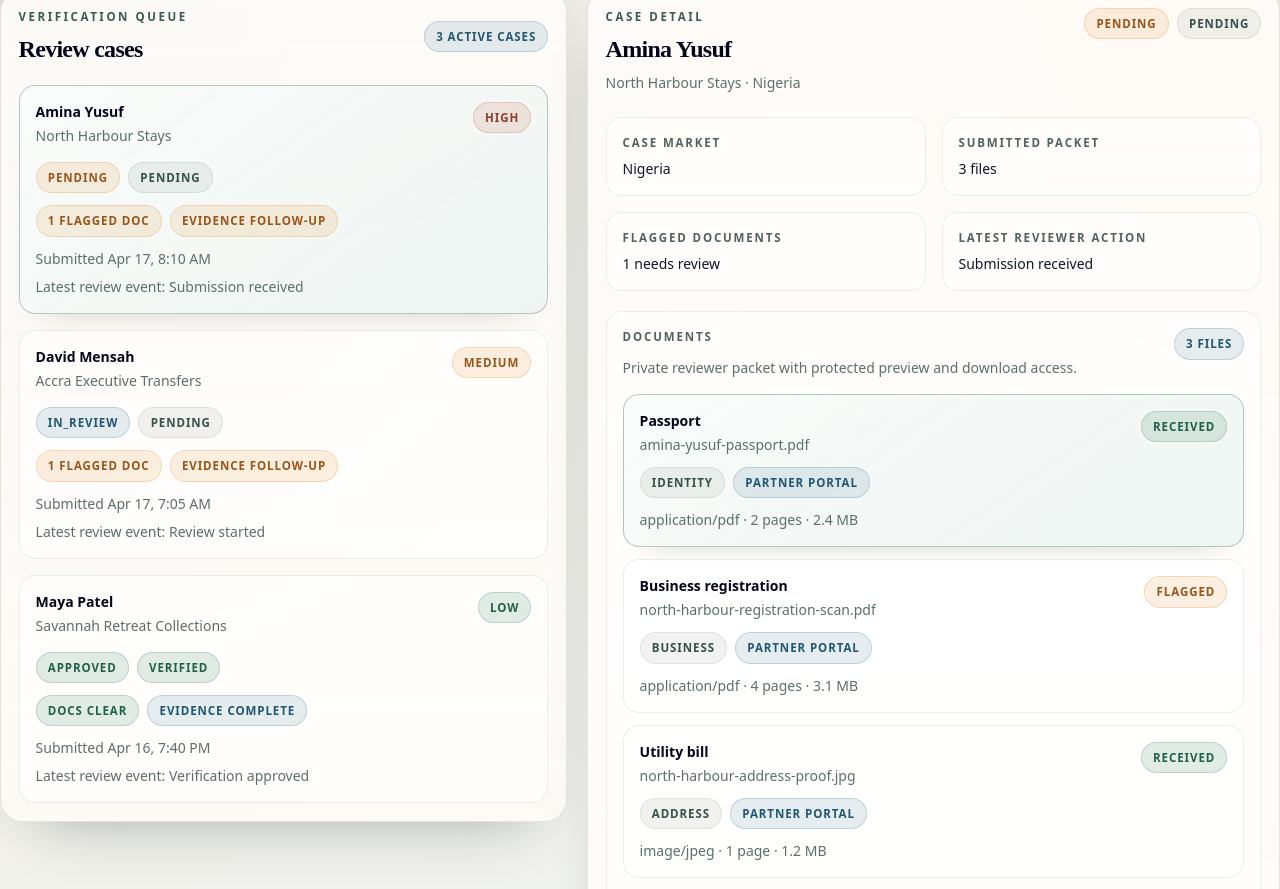
Test: VerificationReviewWorkspace › shows a backend-shaped submitted document packet with preview metadata
This screenshot has width=1280, height=889.
expect the text "amina-yusuf-passport.pdf" is shown: met, box [640,435,809,455]
What coordinates should you click on to do the following:
click the button "Business registration"
I would click on:
 (714, 586)
Its box is [623,559,1244,712].
(page scrolled)
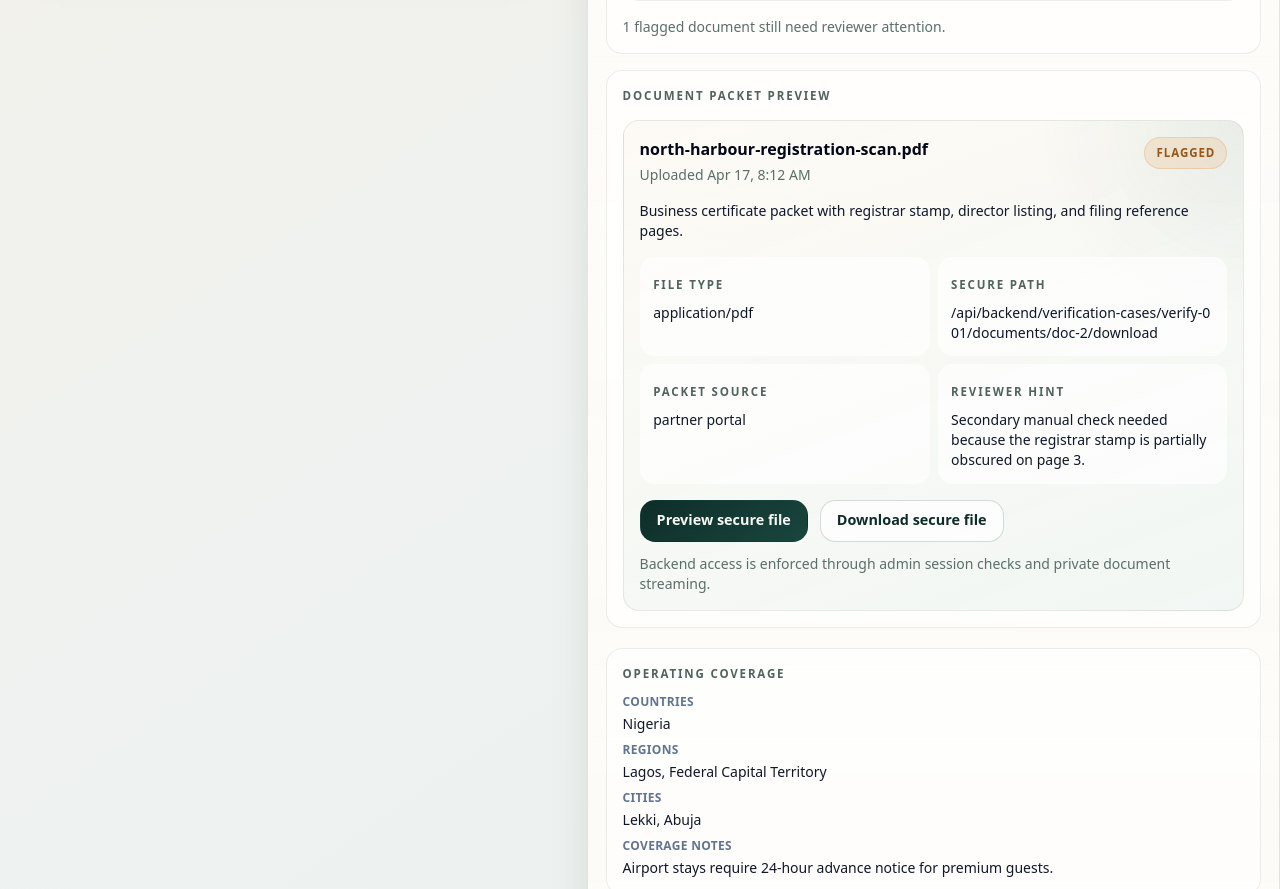
expect the text "Secondary manual check needed because the registrar stamp is partially obscured" is shown: met, box [951,410,1206,469]
